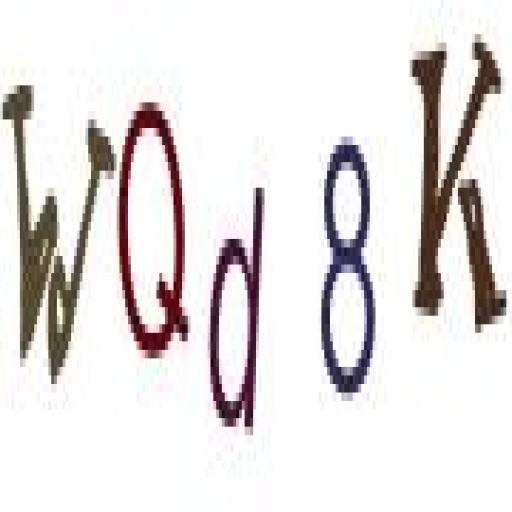8: (314, 132, 384, 408)
K: (403, 21, 507, 338)
Q: (117, 79, 191, 385)
W: (1, 52, 119, 408)
d: (203, 164, 269, 452)
